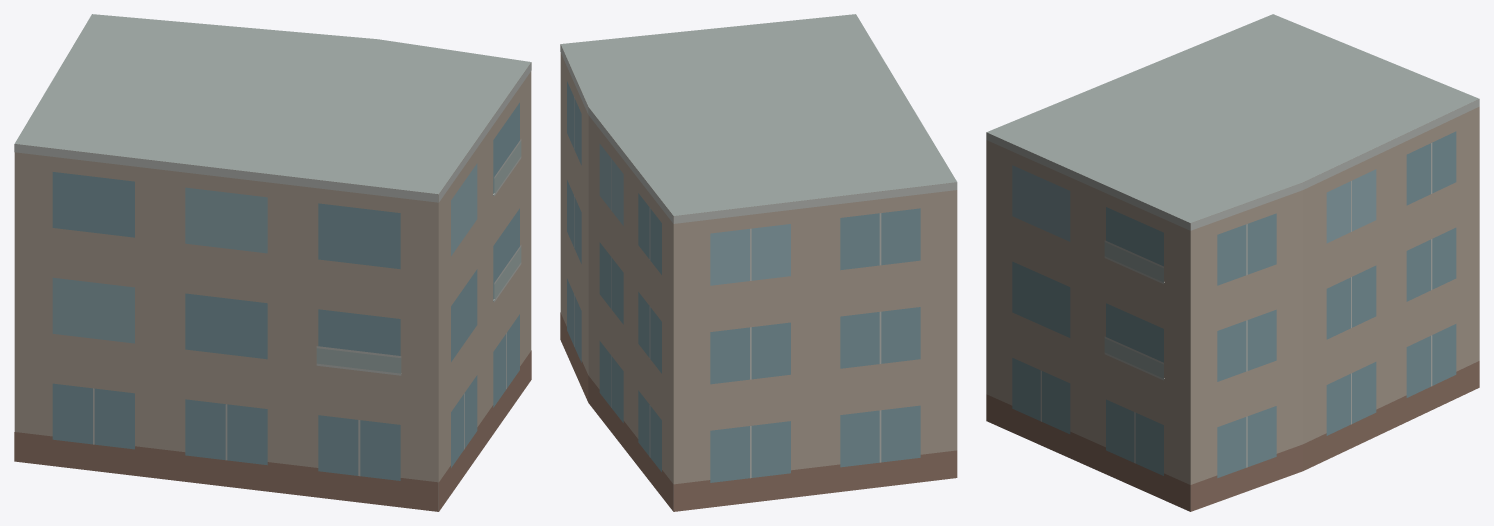
File: survey-upis-32719465.glb
The picture shows the model from 3 angles, left to right: view 1: azimuth 30°, elevation 25°; view 2: azimuth 150°, elevation 25°; view 3: azimuth 270°, elevation 25°; orthographic projection. The views are drawn at different scales.
Parts seen in each view (by area): view 1: survey-upis-32719465.tmp; view 2: survey-upis-32719465.tmp; view 3: survey-upis-32719465.tmp.
Part boxes in pixels (x1,y1,x2,y2): survey-upis-32719465.tmp: (14, 14, 531, 511); survey-upis-32719465.tmp: (560, 14, 957, 511); survey-upis-32719465.tmp: (986, 14, 1479, 511).
Bounding box in the file's own units: 14.22 × 9.15 × 14.17.
